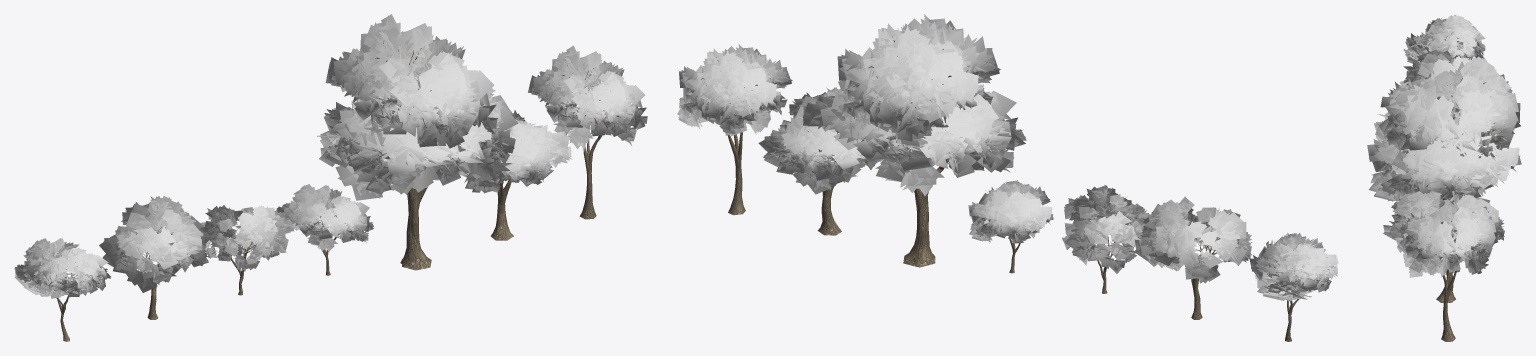
Rendered from Curved Jungle A.fbx.
3 views of the same model, side by side, from view 1: azimuth 30°, elevation 25°; view 2: azimuth 150°, elevation 25°; view 3: azimuth 270°, elevation 25° (orthographic). The views are drawn at different scales.
Visible parts, largest first — view 1: tree.204, tree.206, tree.198, tree.196, tree.205, tree.203, tree.197; view 2: tree.204, tree.206, tree.198, tree.205, tree.196, tree.203, tree.197; view 3: tree.204, tree.206, tree.203, tree.205, tree.198.
Part boxes in pixels (bbox=[...]): tree.204: bbox=[317, 14, 518, 270]; tree.206: bbox=[528, 45, 647, 219]; tree.198: bbox=[99, 196, 208, 319]; tree.196: bbox=[199, 205, 293, 295]; tree.205: bbox=[458, 110, 572, 240]; tree.203: bbox=[14, 238, 110, 341]; tree.197: bbox=[276, 184, 373, 275]; tree.204: bbox=[802, 14, 1026, 267]; tree.206: bbox=[677, 44, 792, 215]; tree.198: bbox=[1134, 196, 1252, 319]; tree.205: bbox=[758, 87, 882, 235]; tree.196: bbox=[1062, 185, 1150, 293]; tree.203: bbox=[1249, 232, 1338, 341]; tree.197: bbox=[968, 180, 1053, 273]; tree.204: bbox=[1367, 56, 1521, 274]; tree.206: bbox=[1396, 194, 1497, 341]; tree.203: bbox=[1403, 15, 1485, 63]; tree.205: bbox=[1383, 190, 1504, 302]; tree.198: bbox=[1399, 49, 1496, 88].
Size of the model in its own units: 14118 by 5218 by 3487.
